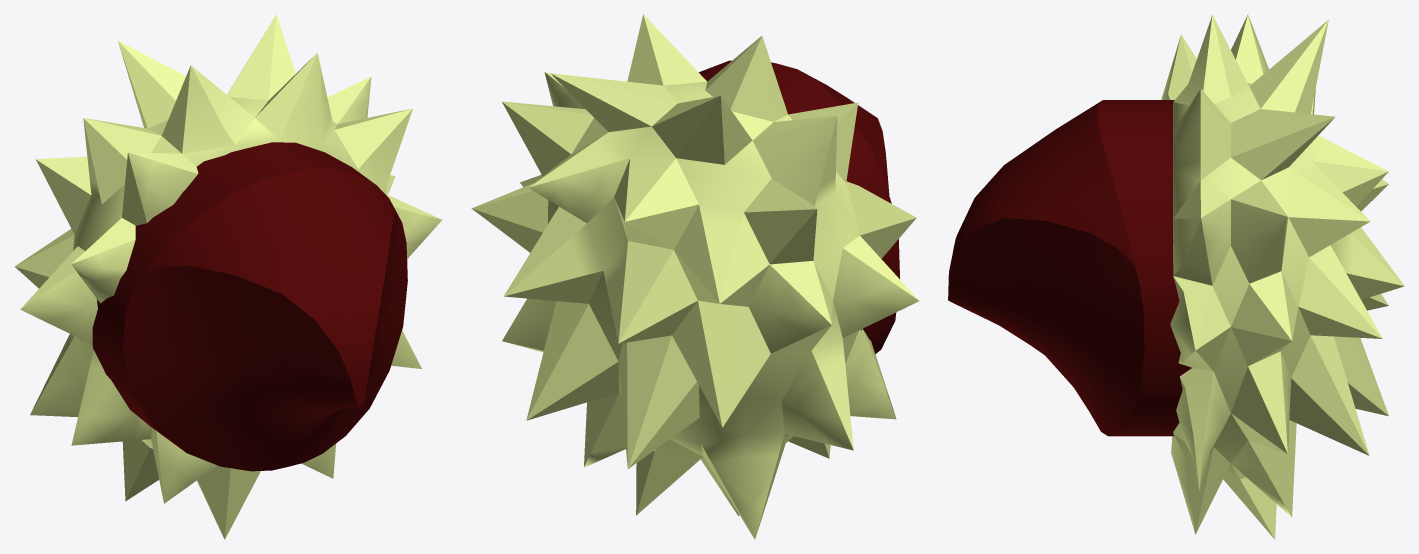
The model's file is masque_1.FBX.
The picture shows the model from 3 angles, left to right: view 1: azimuth 30°, elevation 25°; view 2: azimuth 150°, elevation 25°; view 3: azimuth 270°, elevation 25°; orthographic projection. The views are drawn at different scales.
Visible parts, largest first — view 1: Plane002, GeoSphere005; view 2: GeoSphere005, Plane002; view 3: GeoSphere005, Plane002.
Part boxes in pixels (x1,y1,x2,y2): Plane002: (92,142,407,471); GeoSphere005: (14,14,442,539); GeoSphere005: (471,14,918,539); Plane002: (699,60,899,353); GeoSphere005: (1161,14,1404,539); Plane002: (948,100,1191,436).
Bounding box in the file's own units: 32.64 × 30.99 × 36.78.
